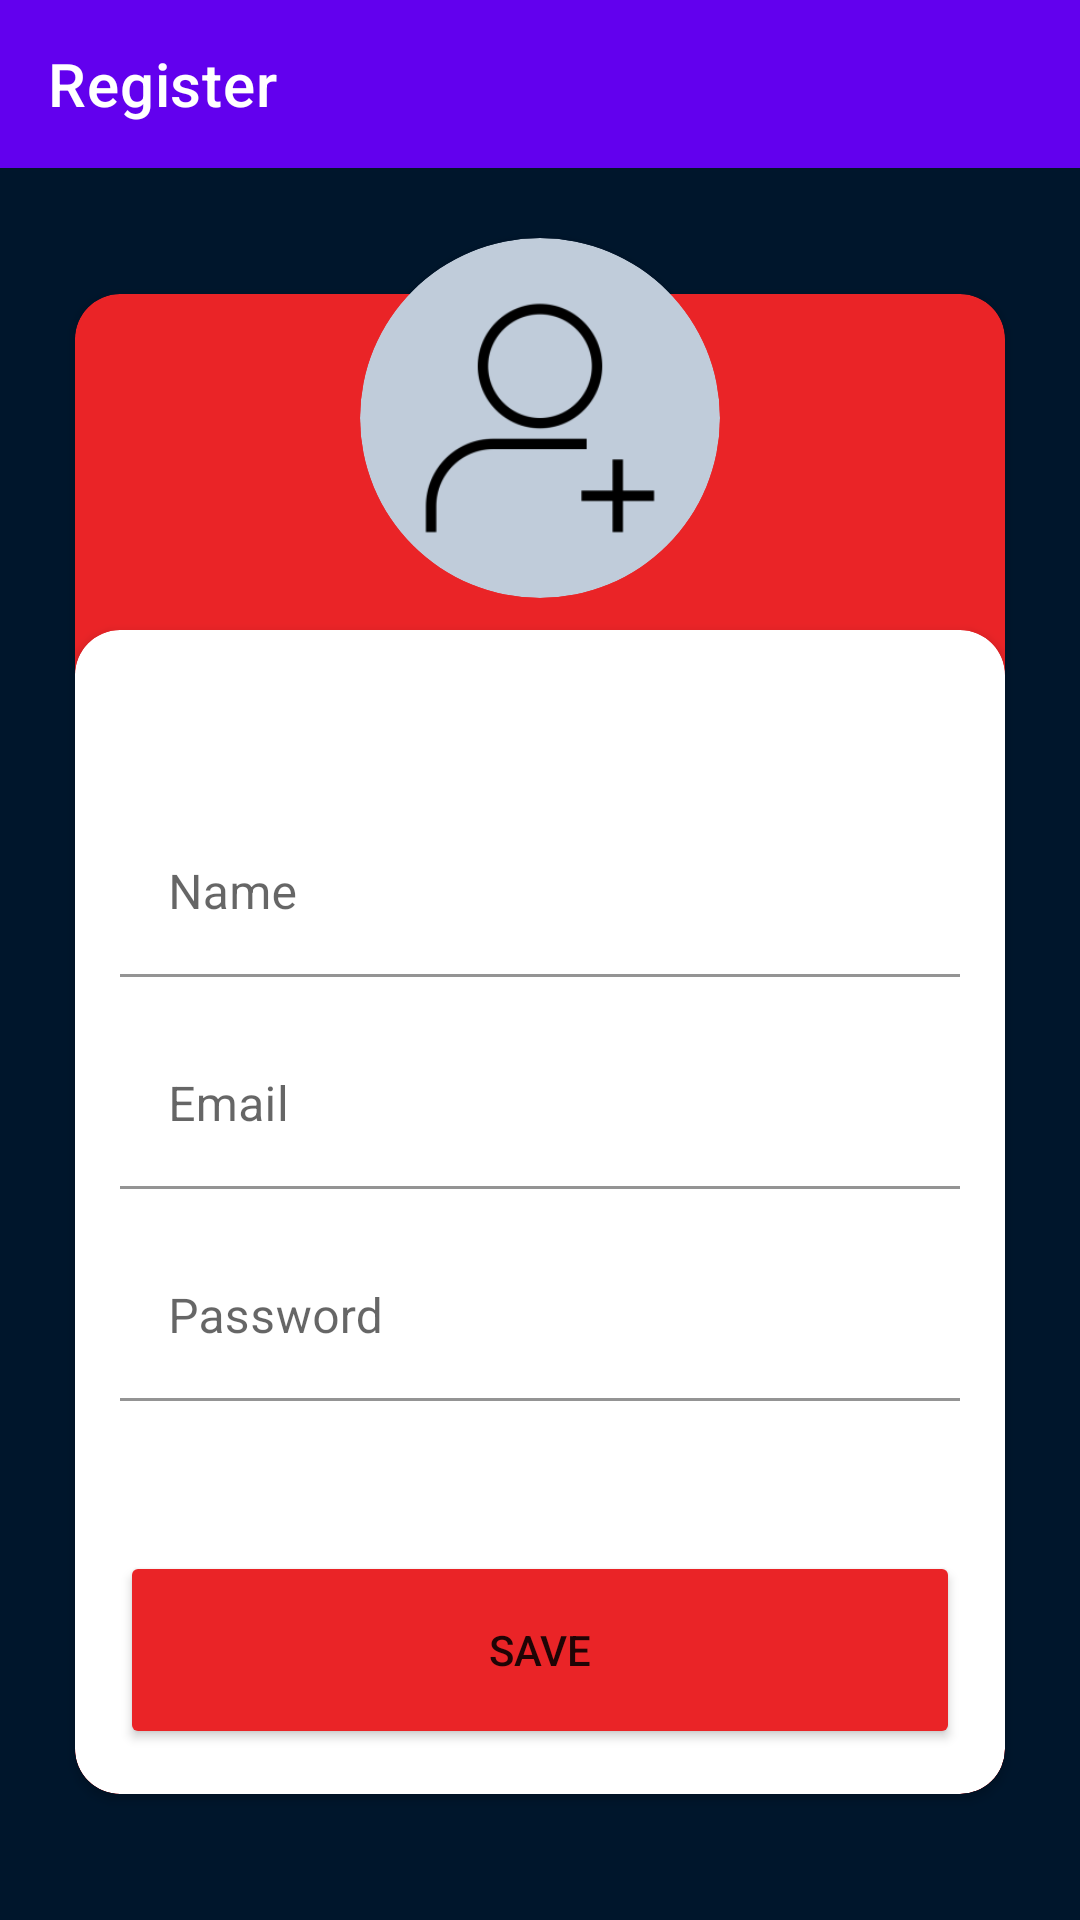

Icons on this 1080px x 1920px Android screen, each with the point to tap as [x,y]:
add user: [540,418]
